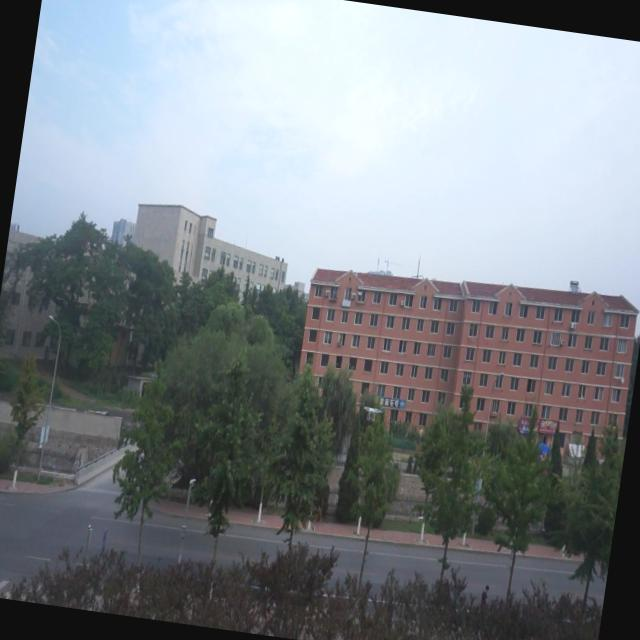drone: (360, 400, 386, 426)
